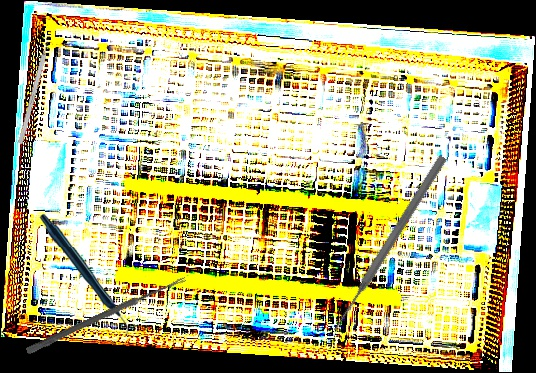Handpiece: (38, 212, 130, 339)
Hook Surgical: (17, 32, 53, 145)
Pusher: (329, 153, 449, 334)
Surgical Spoon: (25, 274, 187, 356)
